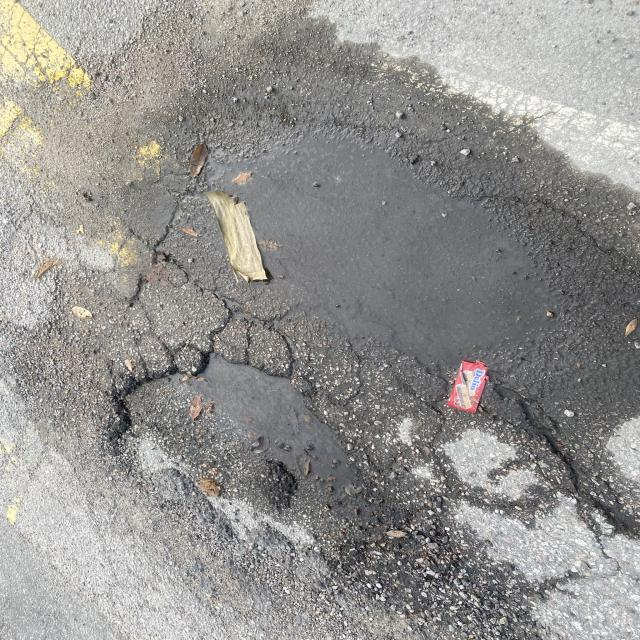Pothole: (71, 313, 462, 612)
